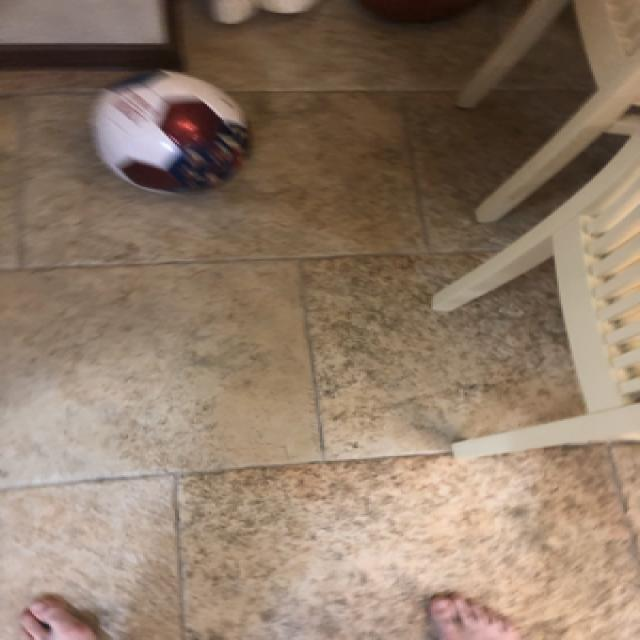soccer_ball: (81, 64, 254, 195)
